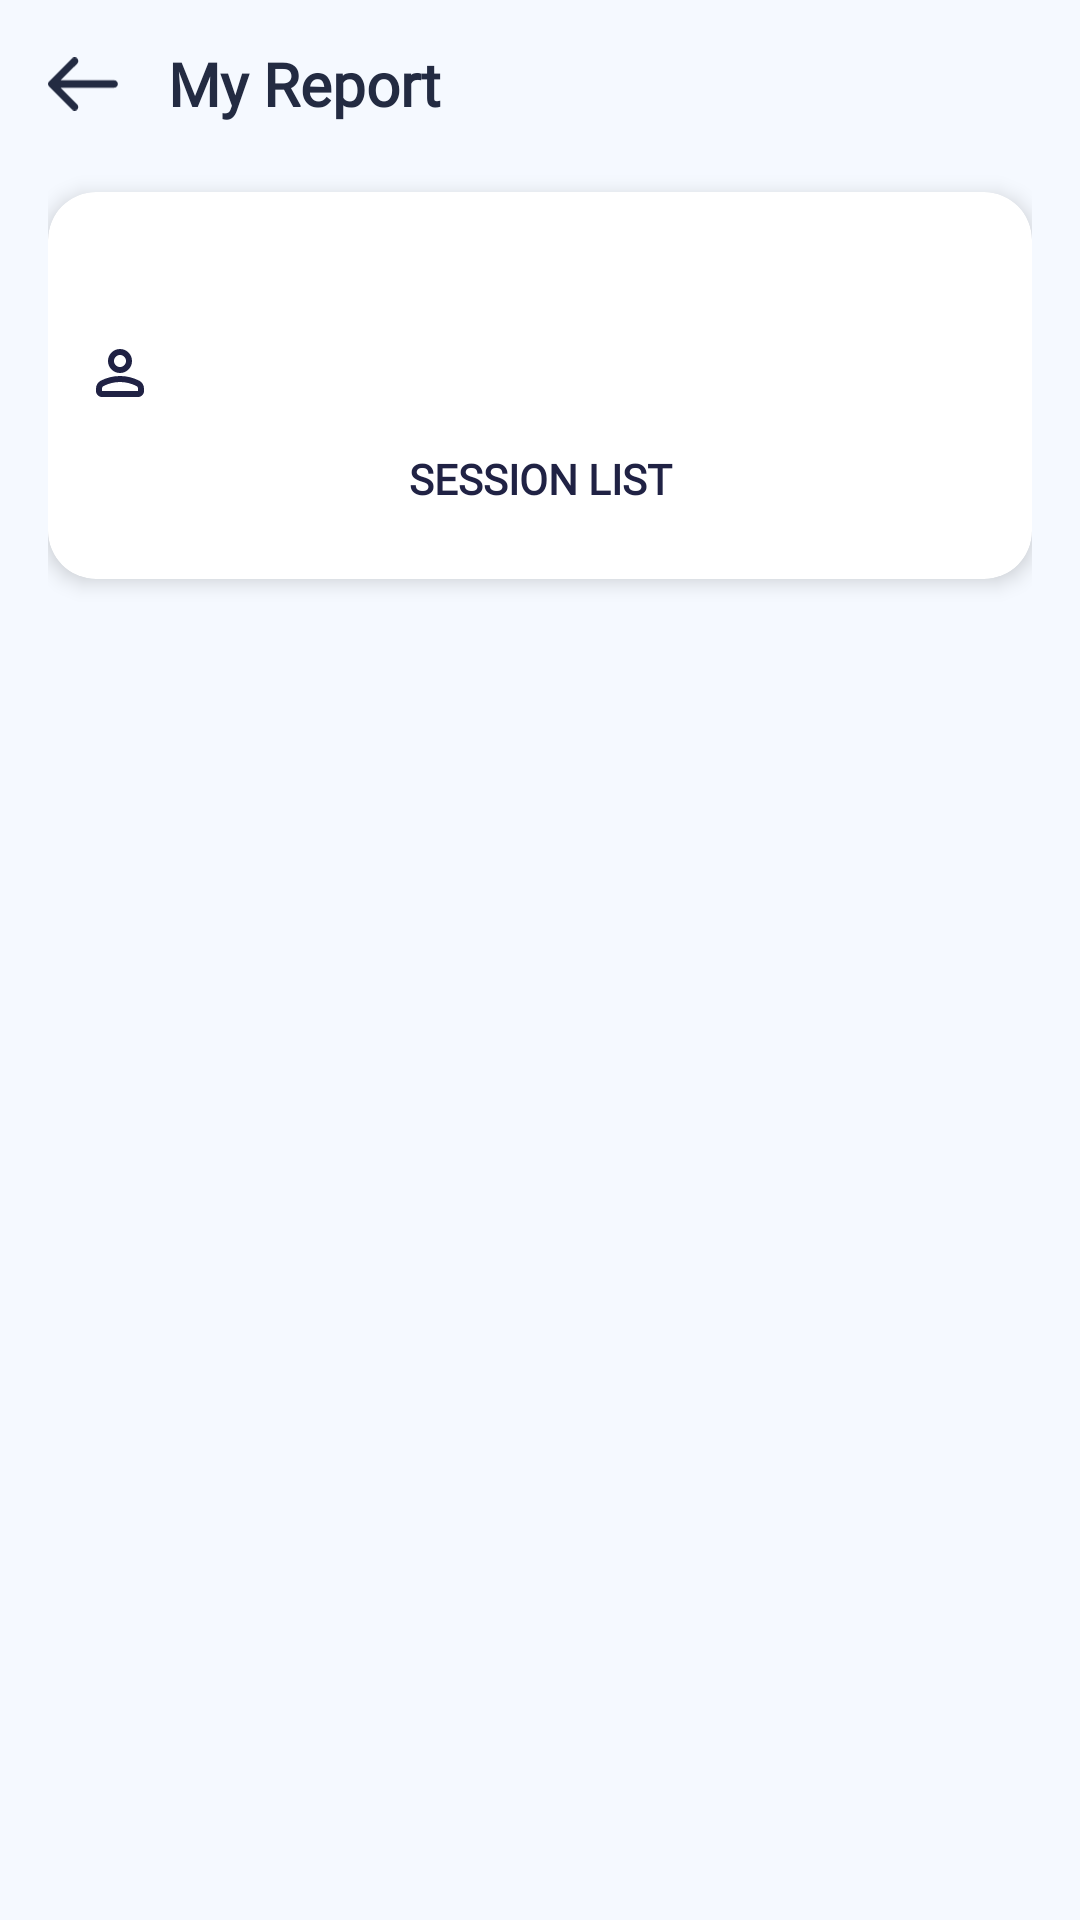

Named icons in this screenshot (1080px x 1920px) and their centers, [x,y]:
Back: [83,84]
student: [120,373]
